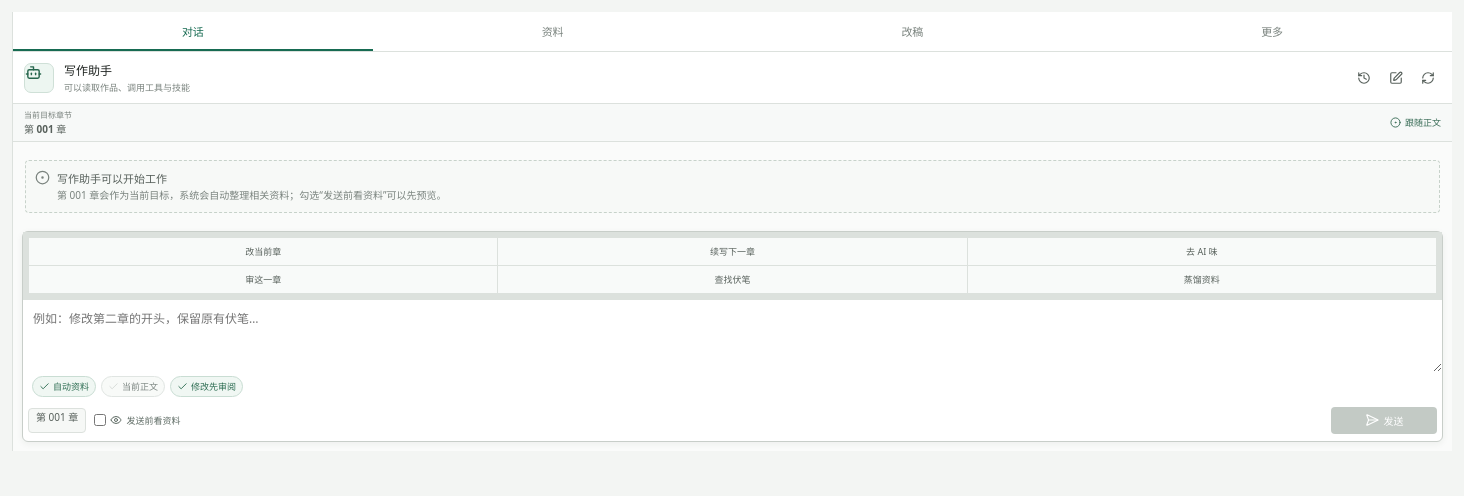
it: Inspector › does not reinterpret a batch-writing command as an edit to the open chapter
Type "一键写10章" into the text box named "给写作助手的指令" at (732, 336), box x1=23 y1=300 x2=1442 y2=372
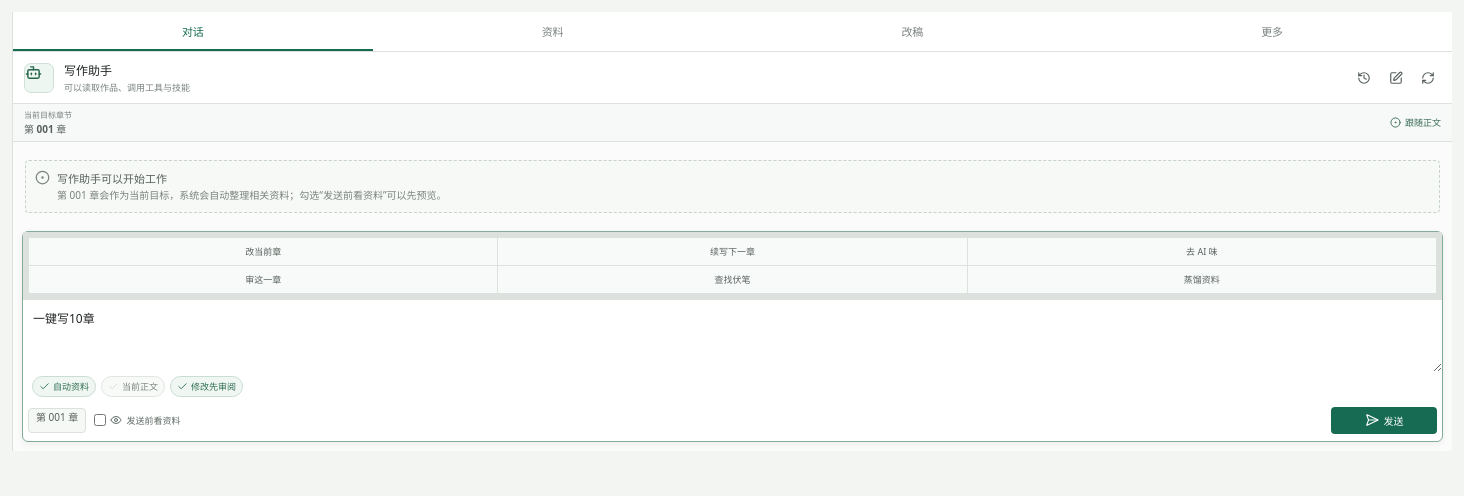
Click the button with aria-label "发送给写作助手" at (1384, 420), box x1=1331 y1=406 x2=1437 y2=434
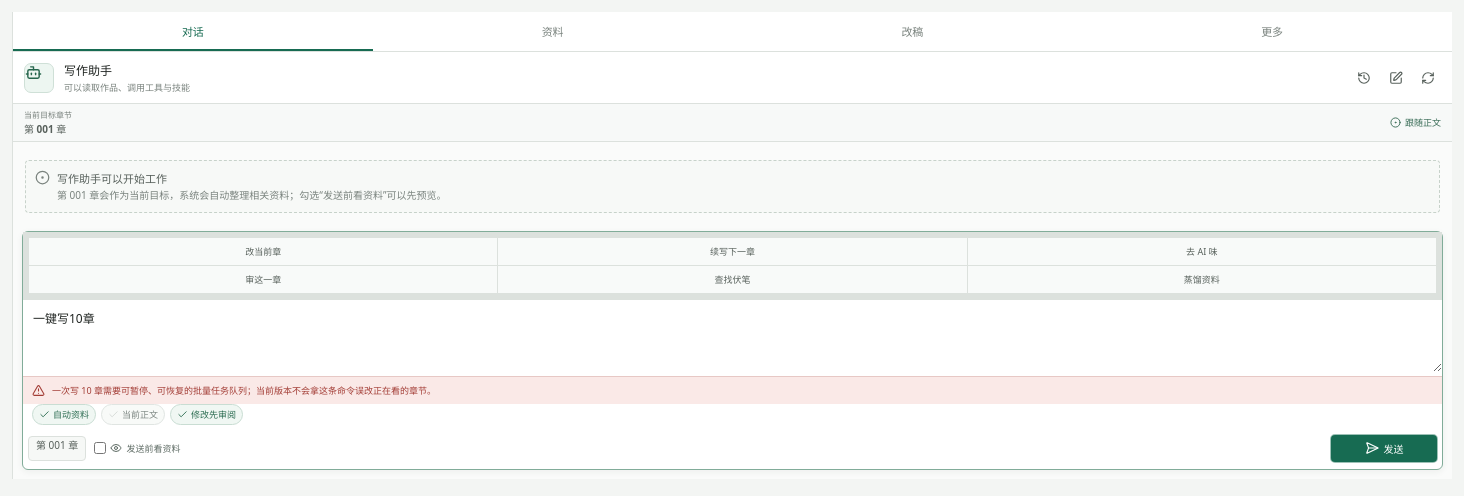
Expected: the message shows "一次写 10 章需要可暂停、可恢复的批量任务队列", x1=52 y1=384 x2=436 y2=396
